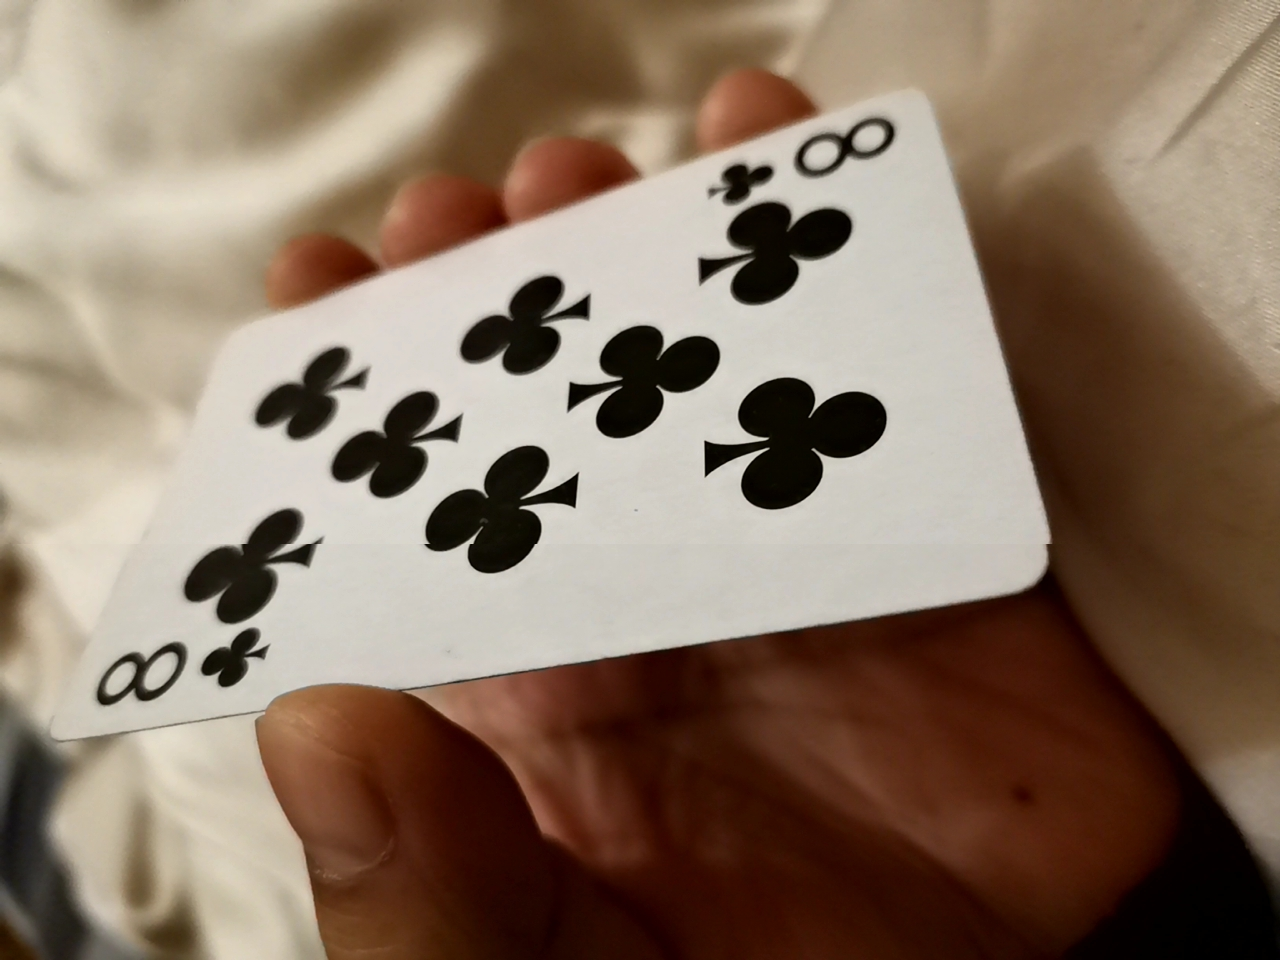mh 8: (60, 93, 1070, 750)
